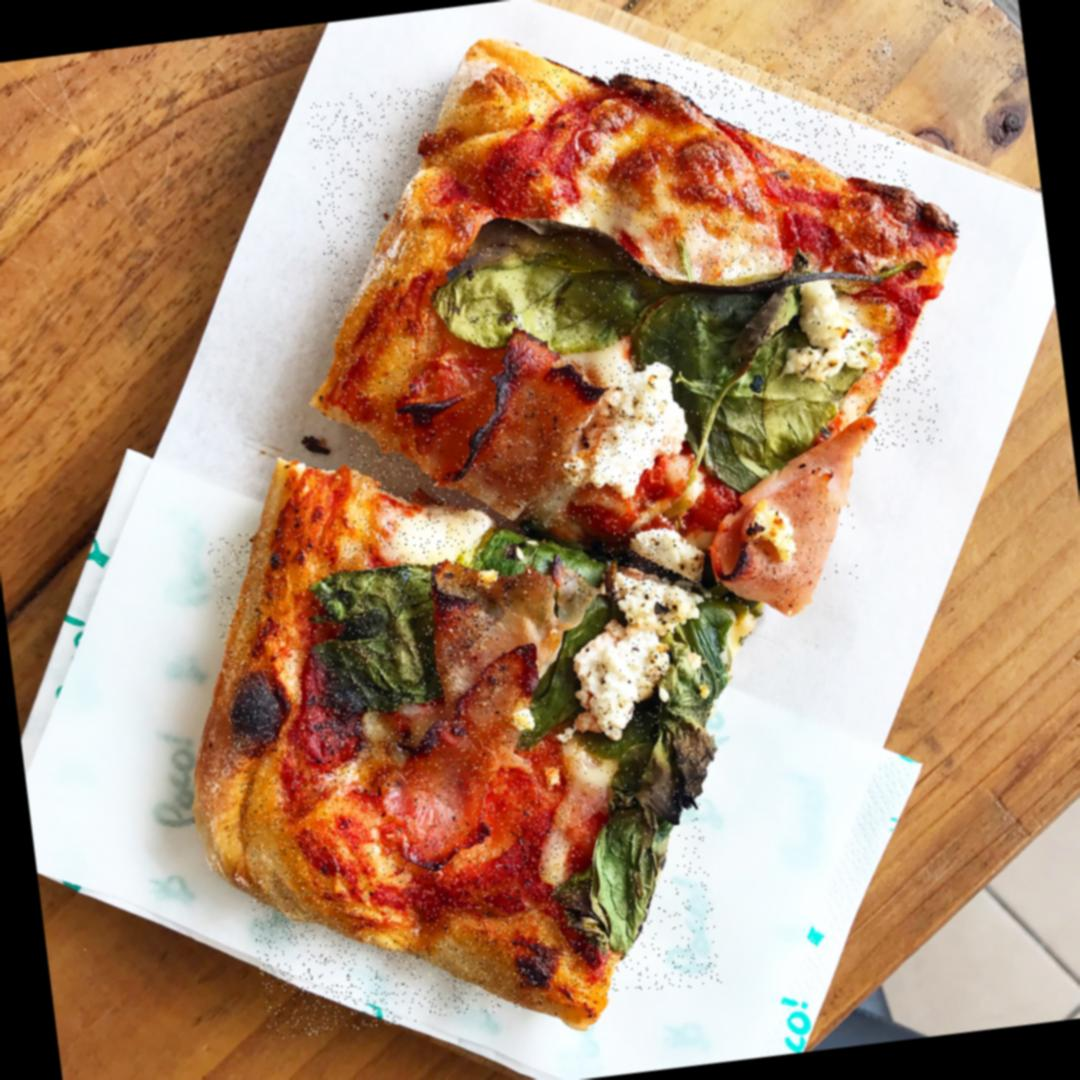Basil: (637, 264, 867, 480), (428, 204, 664, 377), (566, 722, 706, 966), (479, 522, 626, 741), (296, 549, 451, 722)
Cheese: (592, 586, 681, 714), (574, 383, 672, 487)
Ham: (371, 645, 553, 854), (406, 346, 590, 492), (698, 456, 860, 597)
Pizza: (304, 27, 942, 516), (207, 482, 722, 1040)
